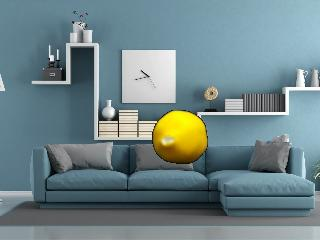lemon: (153, 110, 206, 163)
